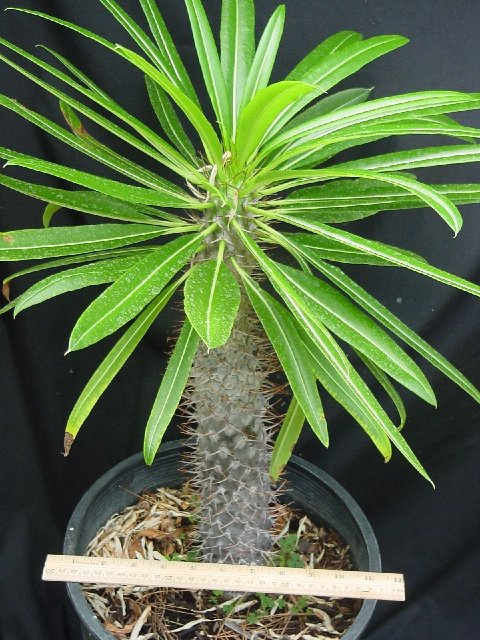Pachypodium lamerei Drake: (102, 80, 381, 606)
